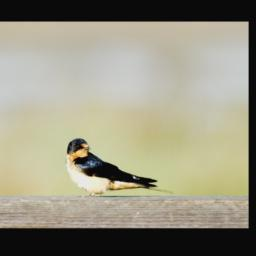Swallow: (65, 137, 175, 200)
